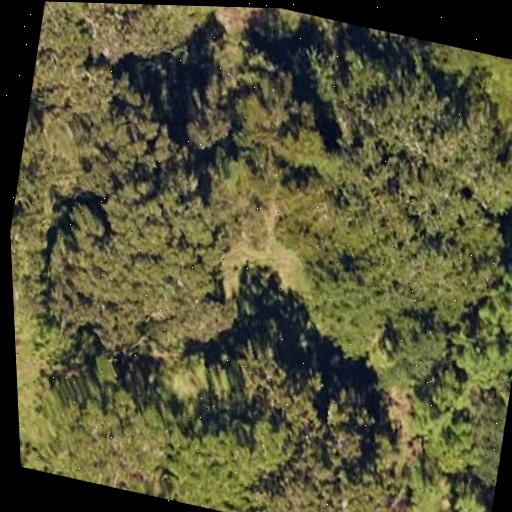tree-top: (257, 30, 512, 378), (25, 169, 245, 377), (14, 34, 195, 210), (16, 359, 185, 500), (161, 400, 296, 512), (284, 414, 429, 512), (404, 373, 512, 499), (223, 321, 339, 433), (69, 2, 200, 70), (460, 257, 512, 398), (170, 86, 241, 159), (422, 470, 498, 512), (498, 77, 512, 202)
